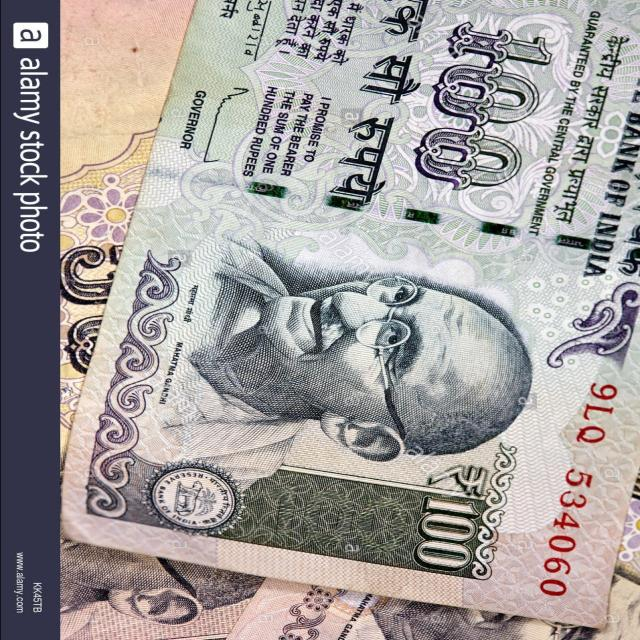100IndianRupees: (56, 0, 640, 616)
